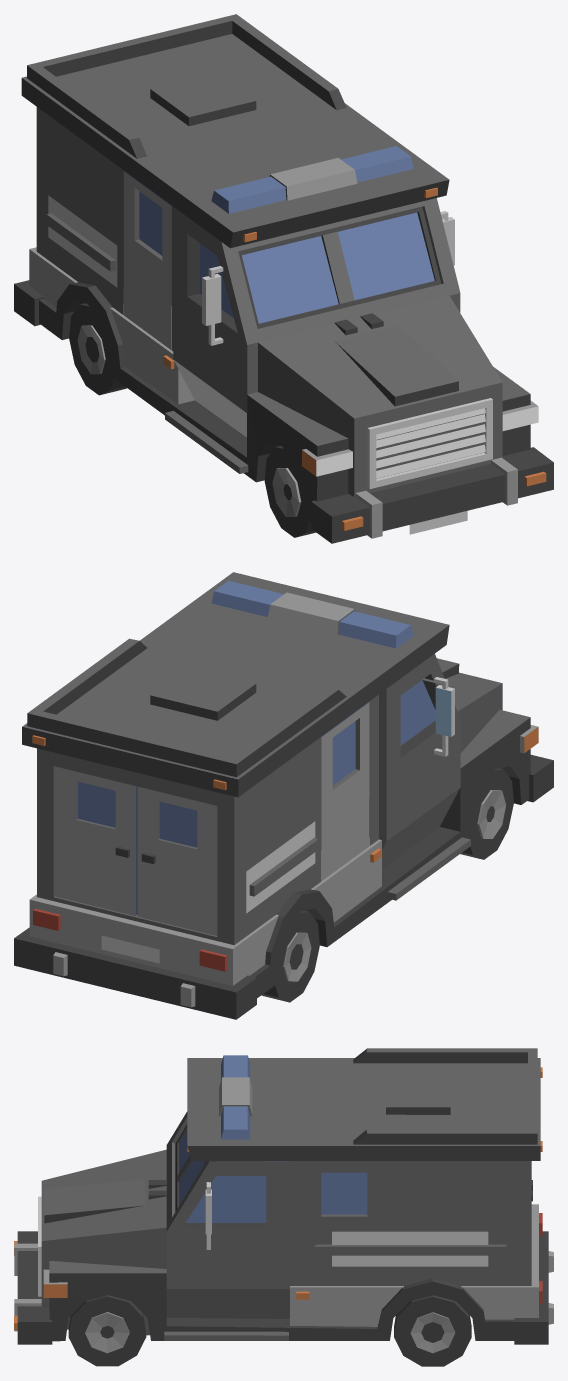
Rendered from transport_purpose_005.fbx.
The picture shows the model from 3 angles, top to bottom: view 1: azimuth 30°, elevation 25°; view 2: azimuth 150°, elevation 25°; view 3: azimuth 270°, elevation 25°; orthographic projection. The views are drawn at different scales.
Parts seen in each view (by area): view 1: transport_purpose_005; view 2: transport_purpose_005; view 3: transport_purpose_005.
Part boxes in pixels (x1,y1,x2,y2): transport_purpose_005: (14, 14, 553, 543); transport_purpose_005: (14, 572, 553, 1019); transport_purpose_005: (14, 1048, 553, 1366).
Size of the model in its own units: 202 by 217 by 454.
